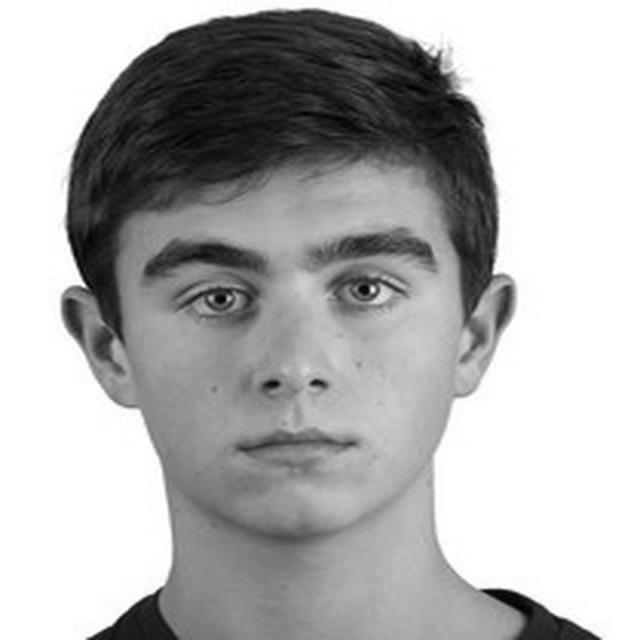Neutral: (121, 153, 465, 537)
